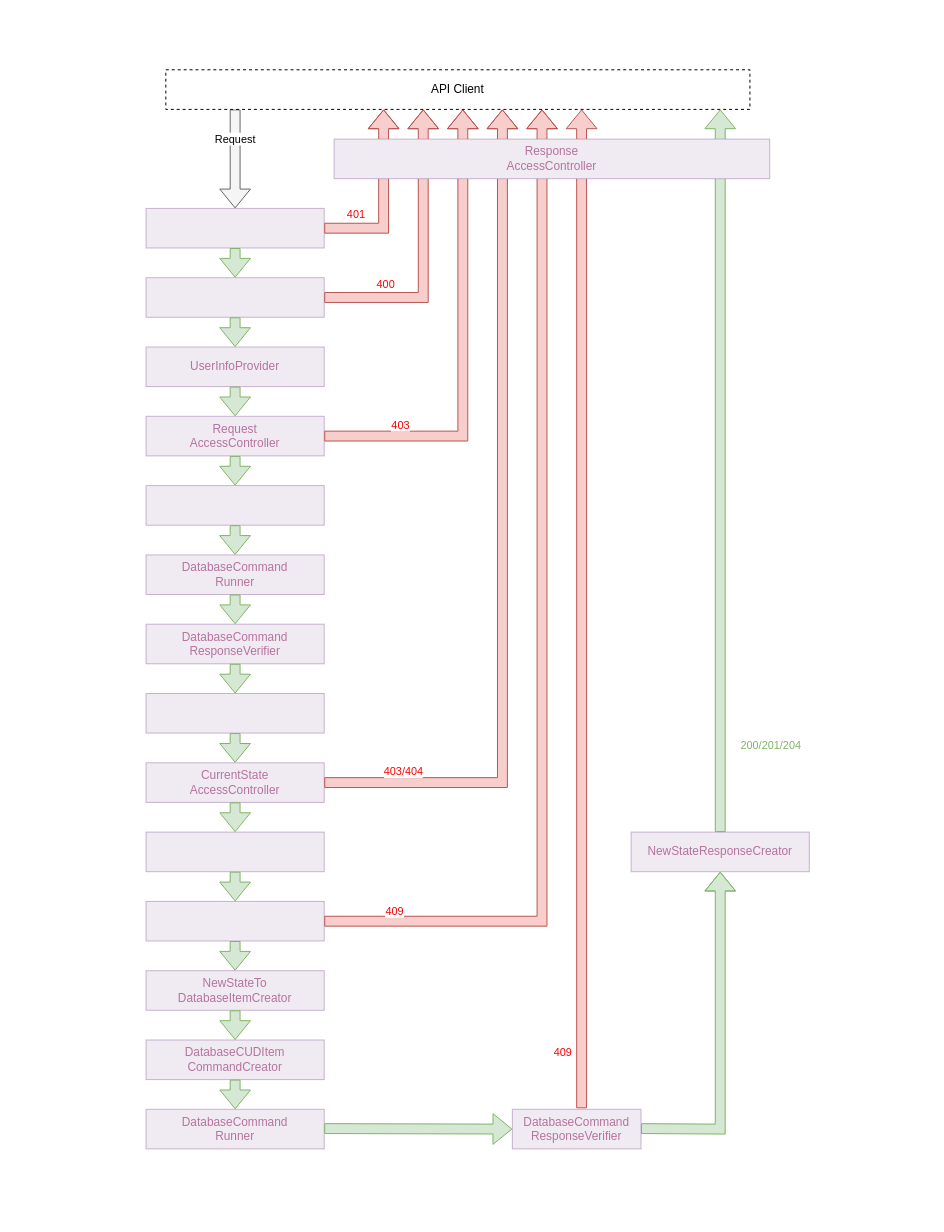
Some shapes in this 944 by 1232 pixel diagram are drawn without their labels. The shapes that lost their labels are listed below. From the top down, each one's centre as x and y in pixels, then its label:
At [234,227]: "ApiKeyAuthenticator".
At [234,297]: "OASRequest Deserializer".
At [234,505]: "DatabaseCommand ReadCreator".
At [234,713]: "CurrentStateFrom DatabaseApplier".
At [234,851]: "NewStateCreator".
At [234,920]: "StateTransition Validator".
